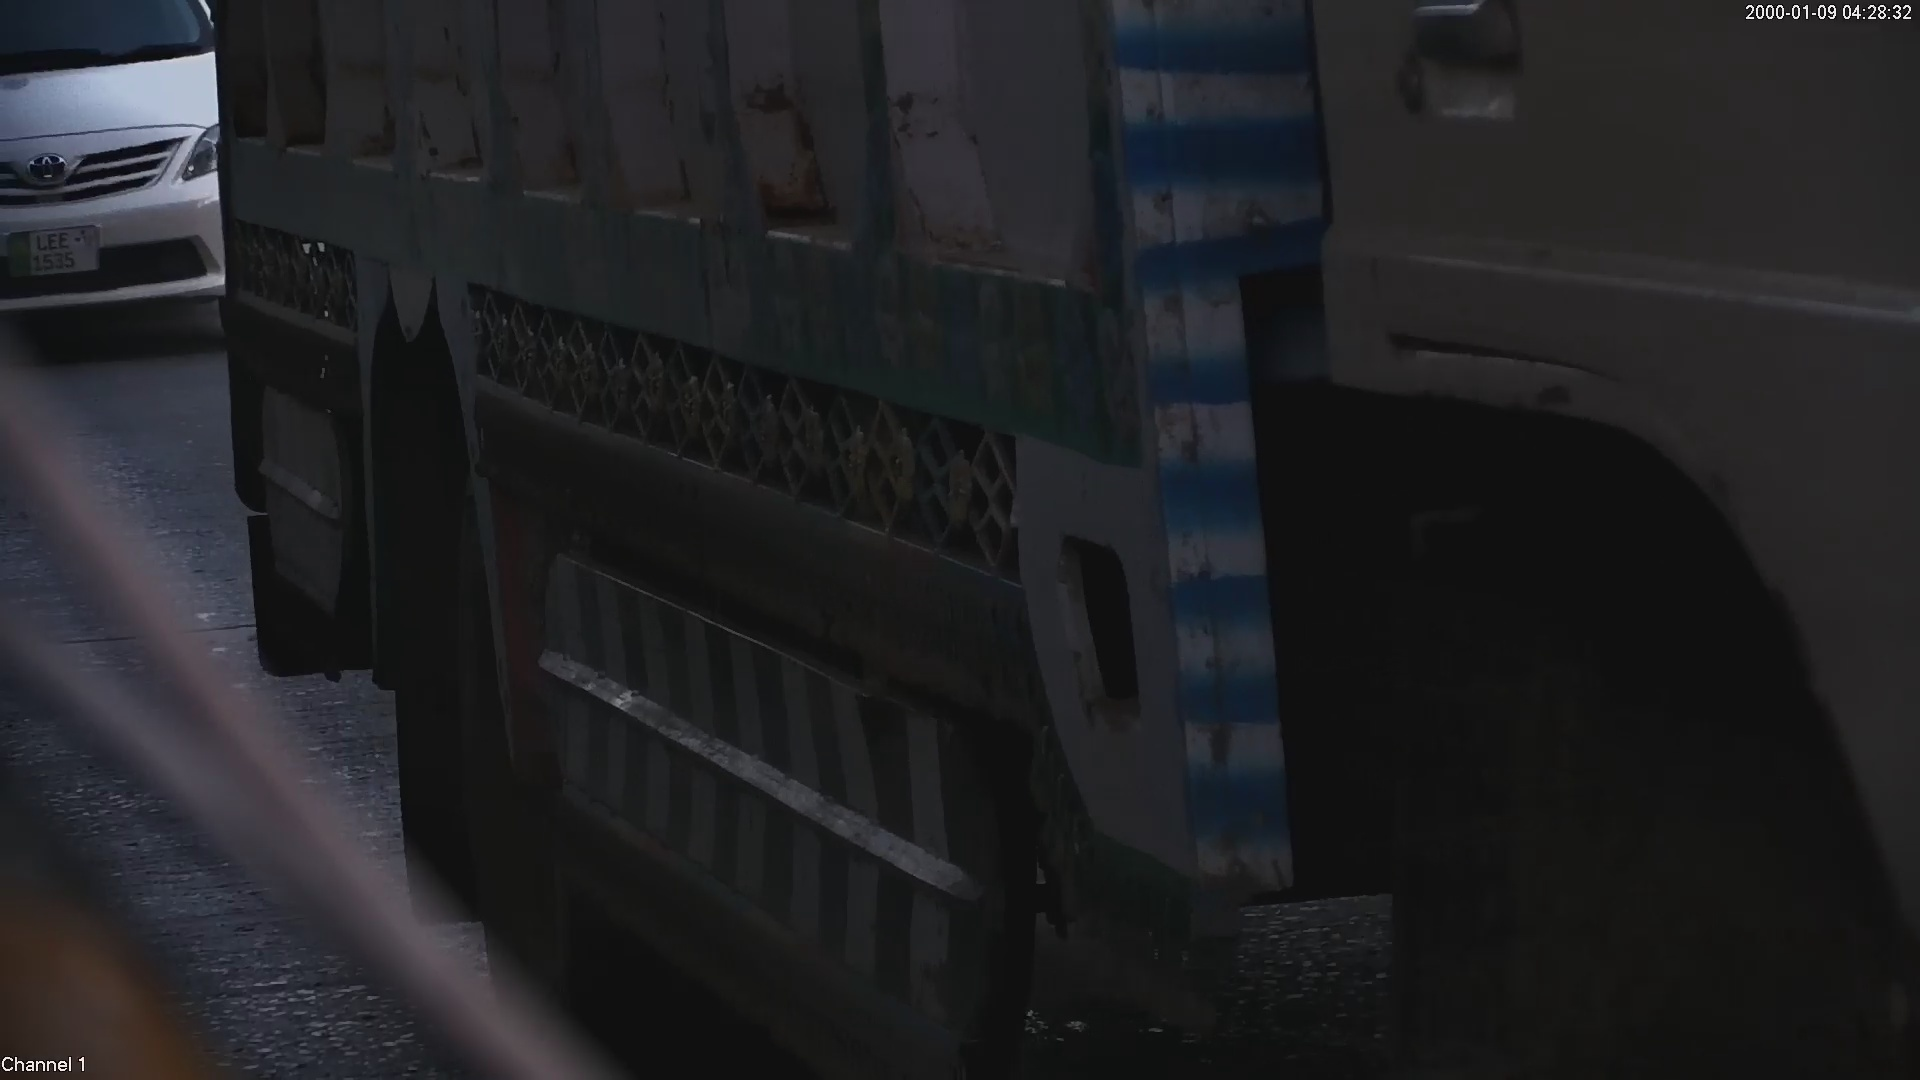Number_Plate: (4, 218, 113, 290)
